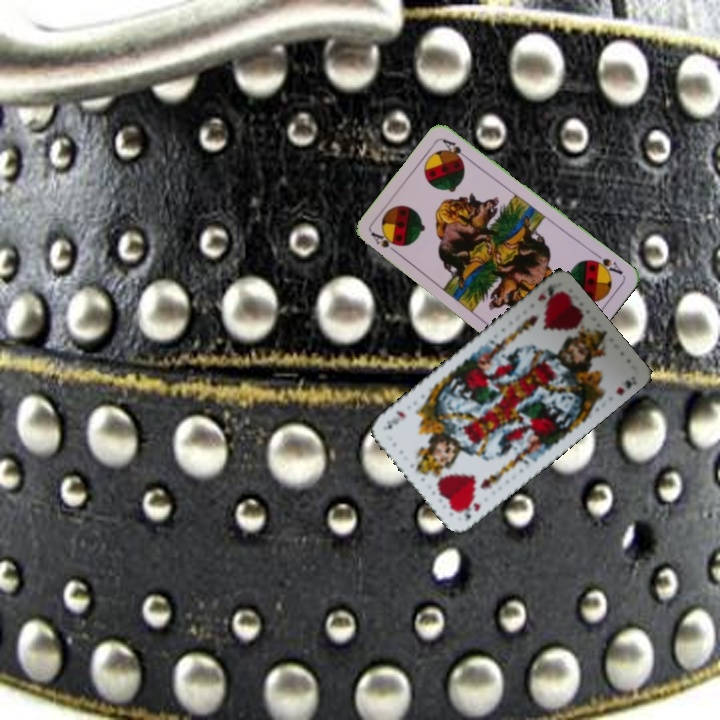HK: (455, 498, 483, 522), (534, 280, 561, 304)
SA: (587, 249, 625, 278), (367, 228, 402, 258)
